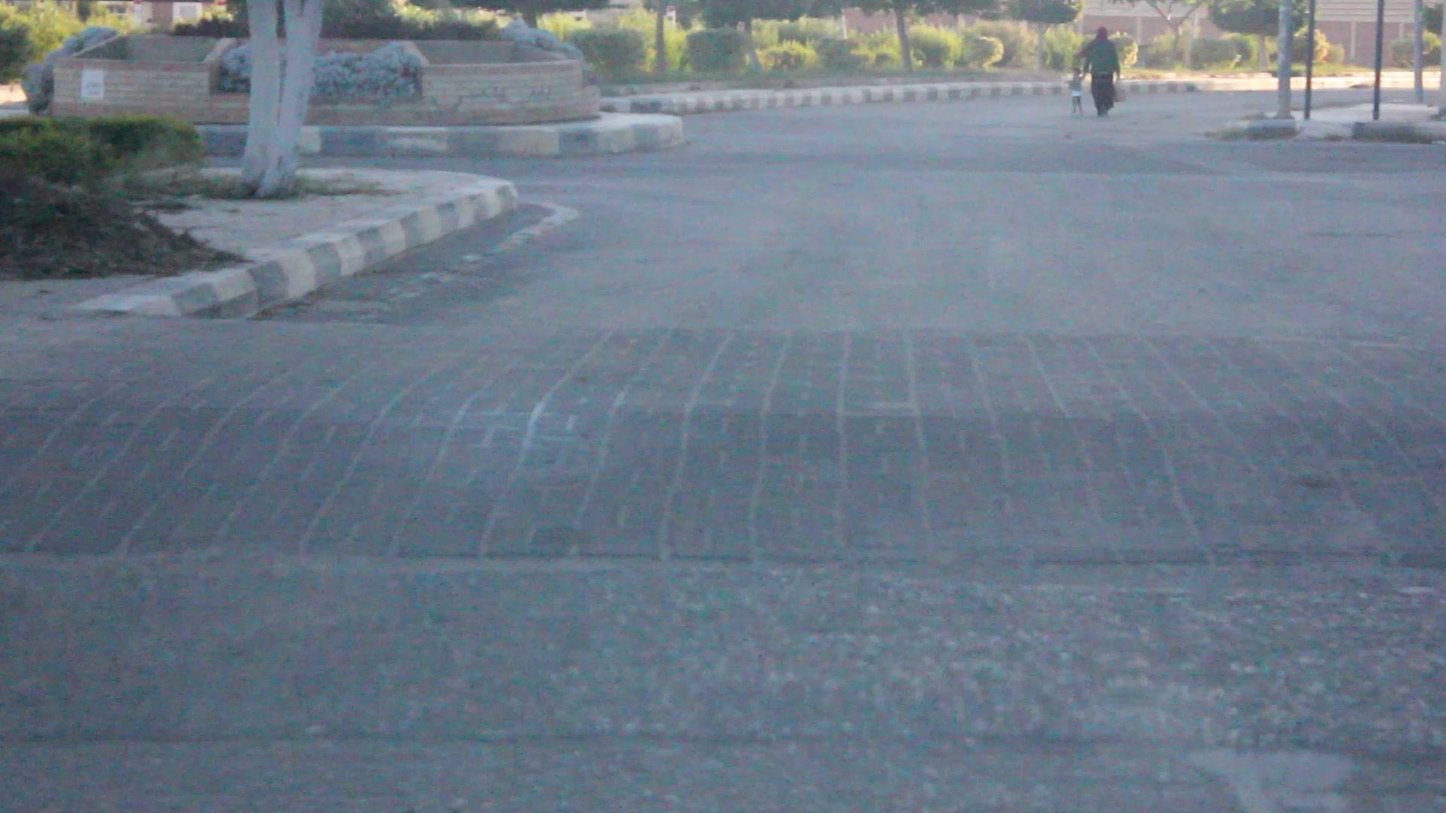Bump: (0, 308, 1445, 573)
